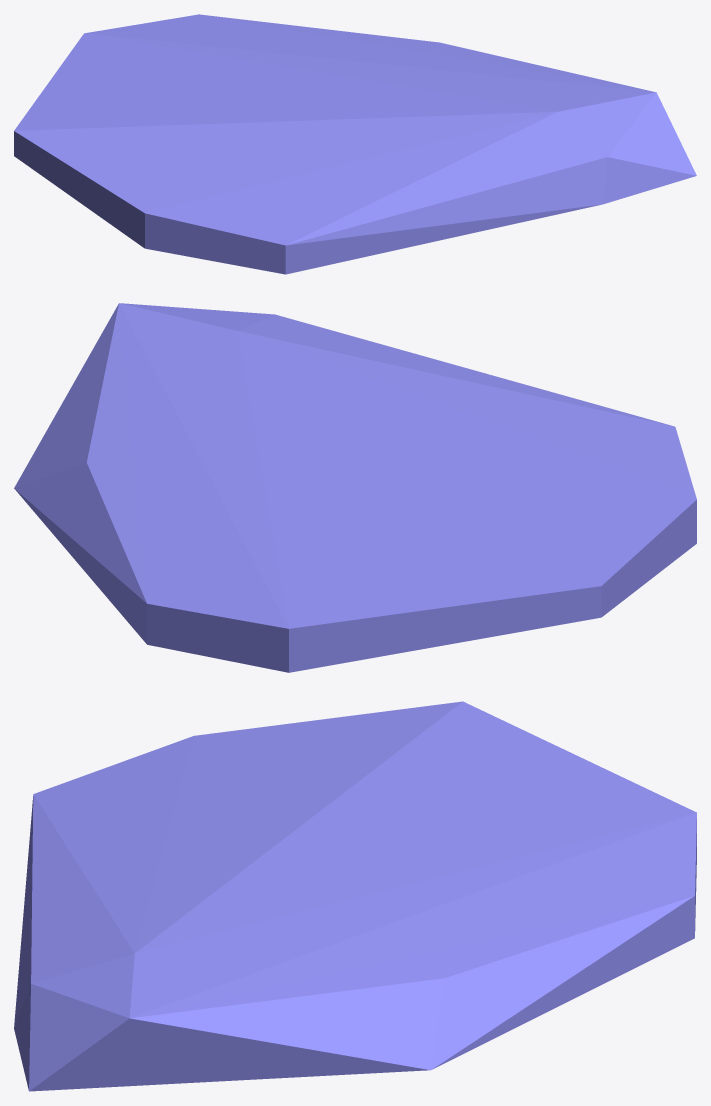
Rendered from Plate_05_Collider_01.FBX.
The picture shows the model from 3 angles, top to bottom: view 1: azimuth 30°, elevation 25°; view 2: azimuth 150°, elevation 25°; view 3: azimuth 270°, elevation 25°; orthographic projection. The views are drawn at different scales.
Visible parts, largest first — view 1: Cylinder001; view 2: Cylinder001; view 3: Cylinder001.
Part boxes in pixels (bbox=[...]): Cylinder001: bbox=[14, 14, 696, 274]; Cylinder001: bbox=[14, 303, 696, 672]; Cylinder001: bbox=[14, 701, 696, 1091].
Bounding box in the file's own units: 221 × 32.82 × 195.
